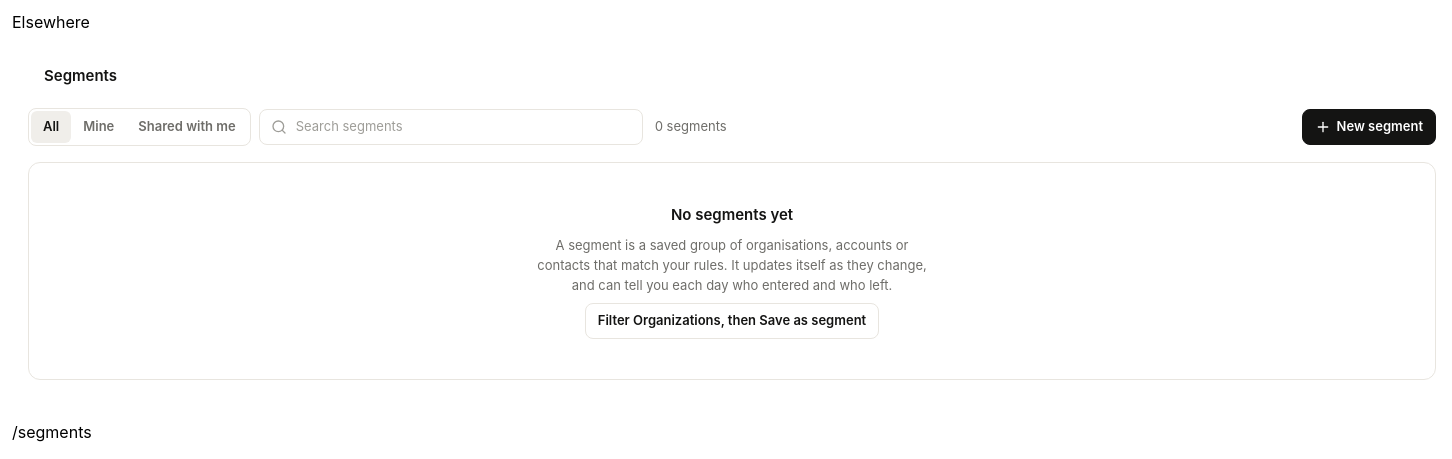
Test case: /segments (spec §3) › shows the loading placeholder, not the last empty state, while another scope loads
Check: the text "No segments yet" is shown, box [671, 203, 793, 227]
Click the button "Shared with me" at (187, 127), box [126, 111, 248, 143]
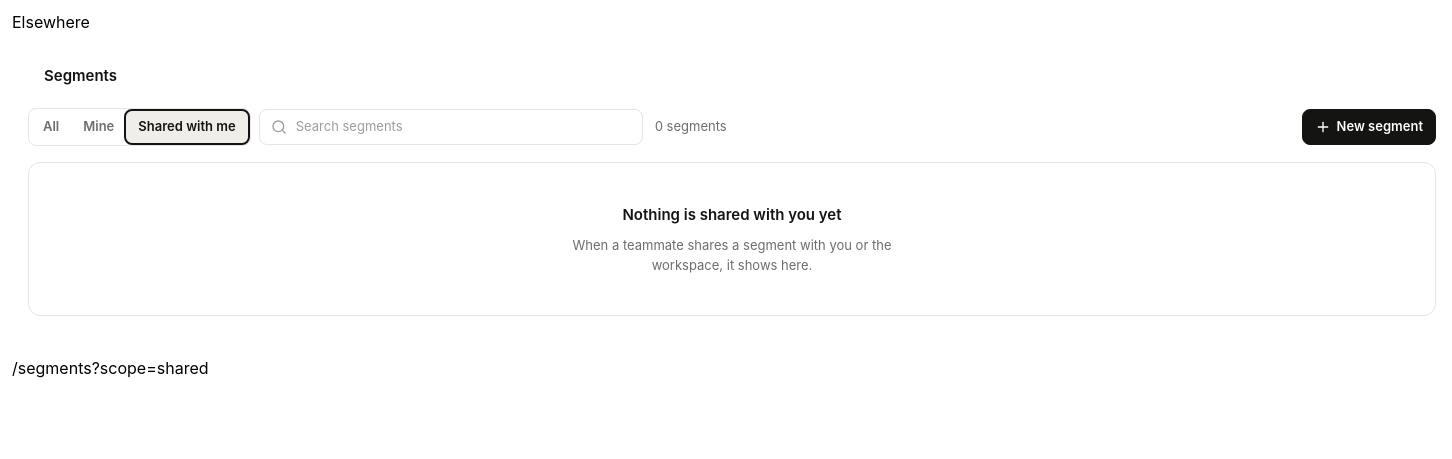
Check: the text with test id "where" reads "/segments?scope=shared", box [12, 358, 208, 378]
Check: the text "No segments yet" is gone
Check: the text "Nothing is shared with you yet" is shown, box [622, 203, 842, 227]
